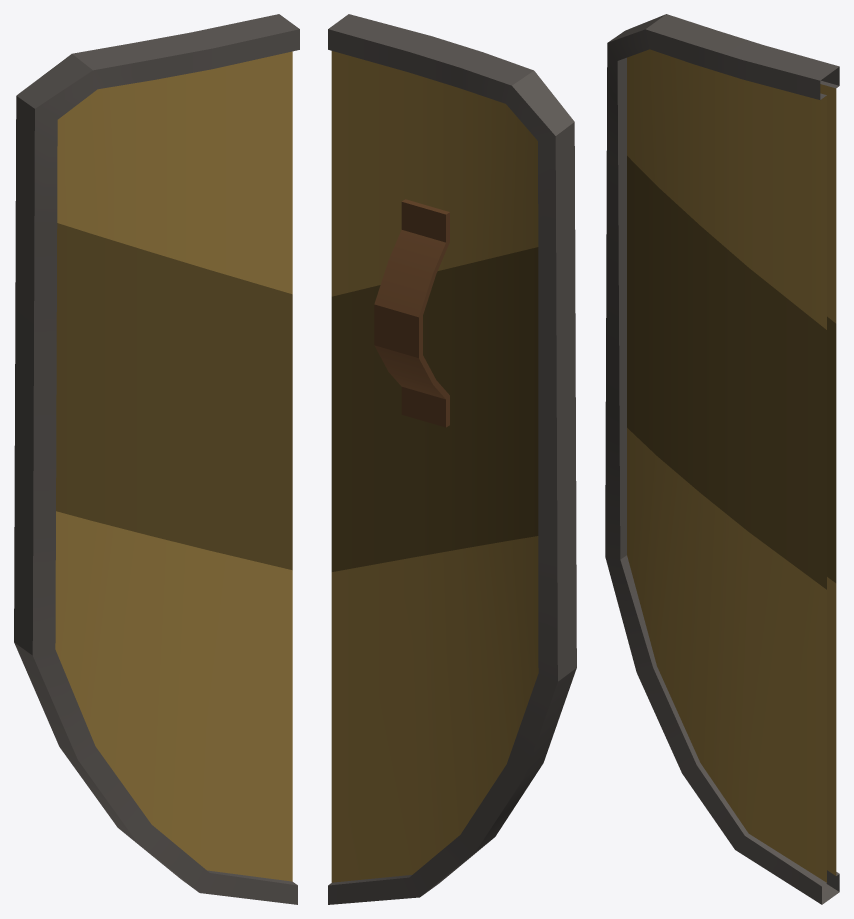
Rendered from Heater Shield_Yellow.glb.
3 views of the same model, side by side, from view 1: azimuth 30°, elevation 25°; view 2: azimuth 150°, elevation 25°; view 3: azimuth 330°, elevation 25° (orthographic). The views are drawn at different scales.
Parts seen in each view (by area): view 1: Heater Shield_Yellow; view 2: Heater Shield_Yellow; view 3: Heater Shield_Yellow.
Part boxes in pixels (x1,y1,x2,y2): Heater Shield_Yellow: (14,14,299,904); Heater Shield_Yellow: (328,14,576,904); Heater Shield_Yellow: (605,14,839,904).
Size of the model in its own units: 0.2491 by 0.8428 by 0.0878.
1 material, 1 textured.
